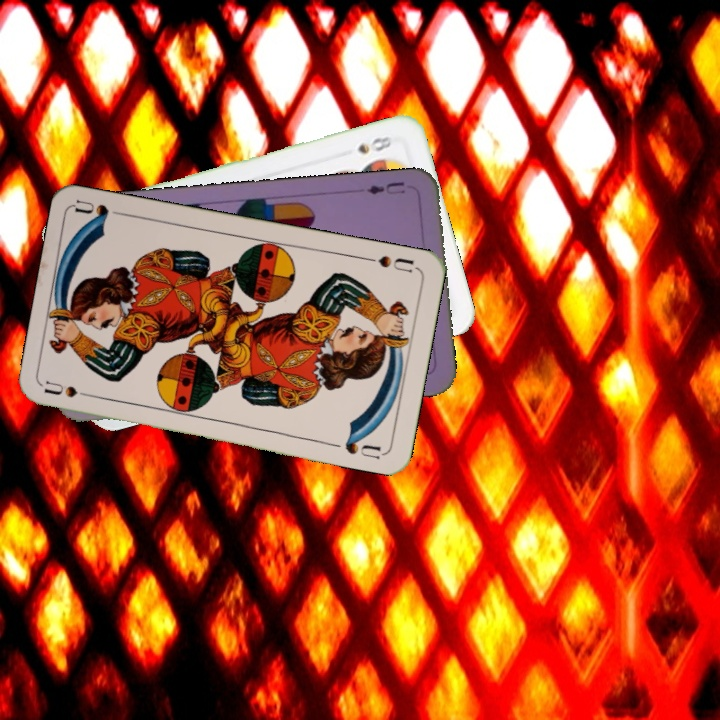EU: (363, 177, 408, 197)
S8: (353, 132, 394, 157)
SU: (41, 376, 101, 402), (361, 251, 419, 276)
